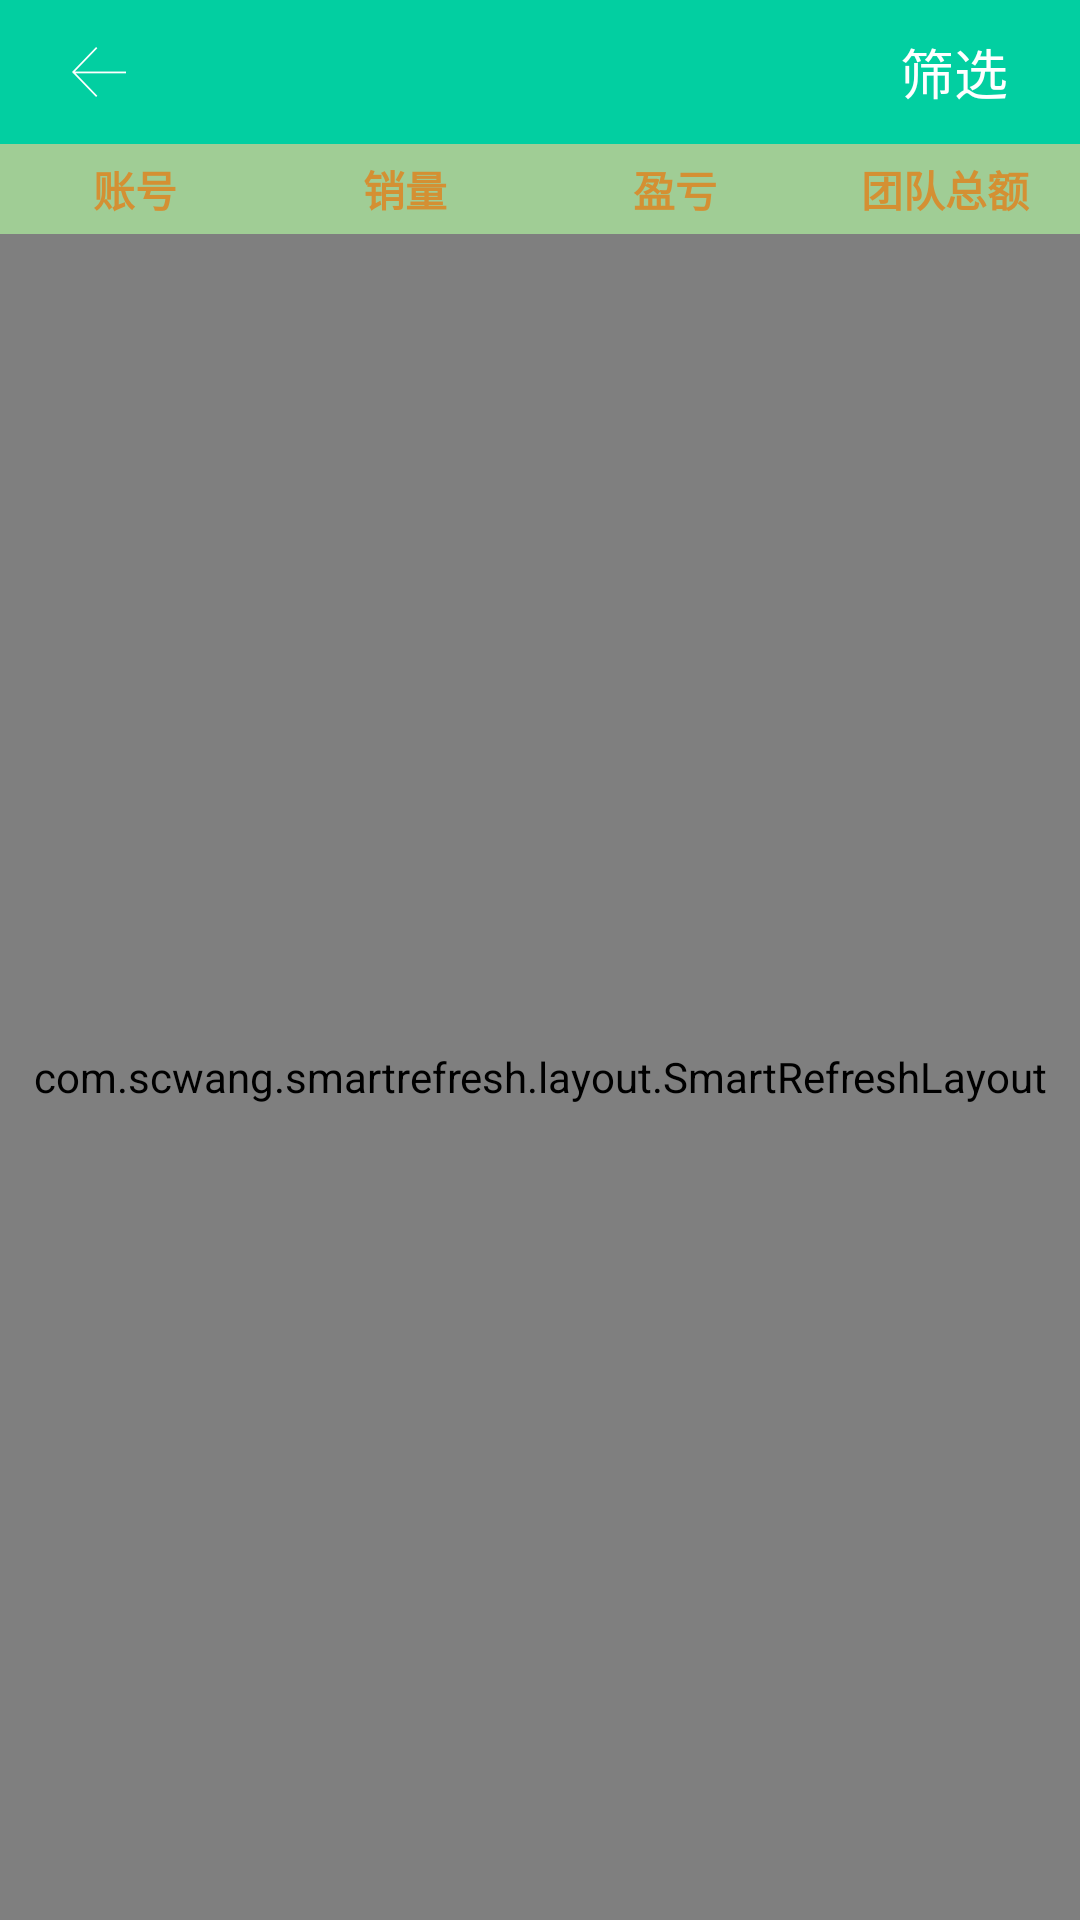

Where icons sit on this 1080px x 1920px app screen, as detection(x1, y1, x2, y2):
back: detection(72, 47, 126, 97)
